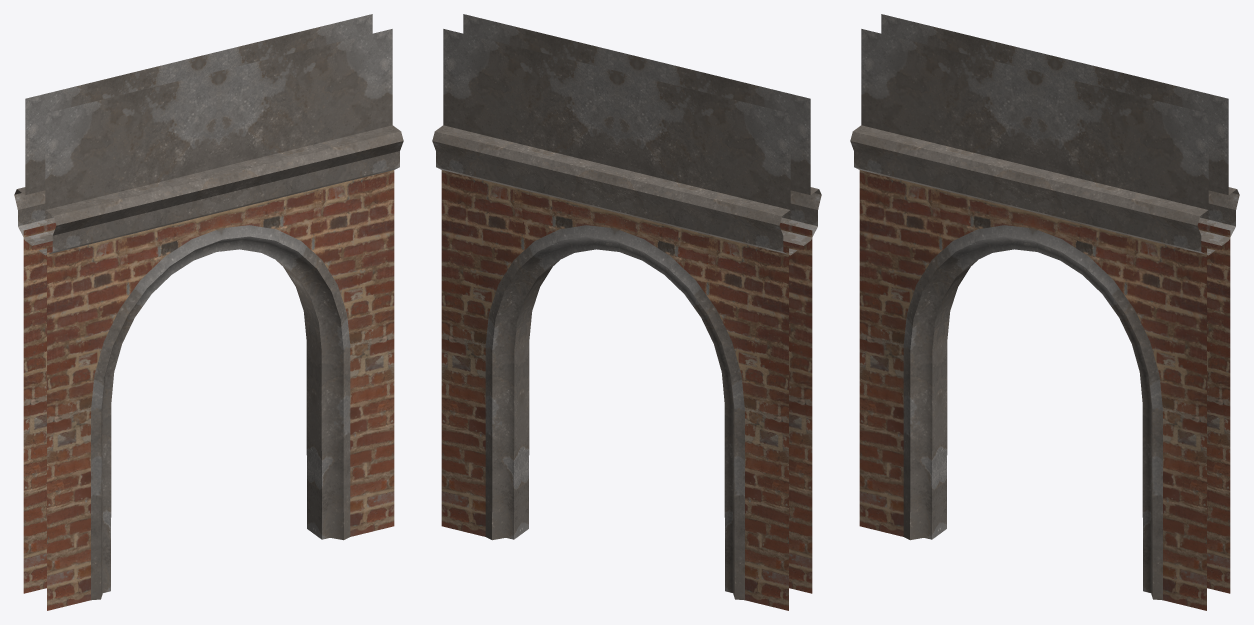
The model's file is Door_Way2.fbx.
The picture shows the model from 3 angles, left to right: view 1: azimuth 30°, elevation 25°; view 2: azimuth 150°, elevation 25°; view 3: azimuth 330°, elevation 25°; orthographic projection.
Visible parts, largest first — view 1: Door_Way2; view 2: Door_Way2; view 3: Door_Way2.
Boxes of the visible parts, x1=… form: Door_Way2: x1=14, y1=14, x2=403, y2=610; Door_Way2: x1=432, y1=14, x2=821, y2=610; Door_Way2: x1=850, y1=14, x2=1239, y2=610.
Size of the model in its own units: 4 by 5.46 by 0.8415.
